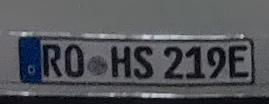1: (185, 45, 207, 80)
2: (162, 45, 184, 81)
9: (206, 45, 227, 80)
E: (228, 43, 250, 79)
H: (110, 44, 132, 78)
O: (63, 42, 85, 79)
R: (41, 42, 63, 78)
S: (132, 44, 154, 79)
